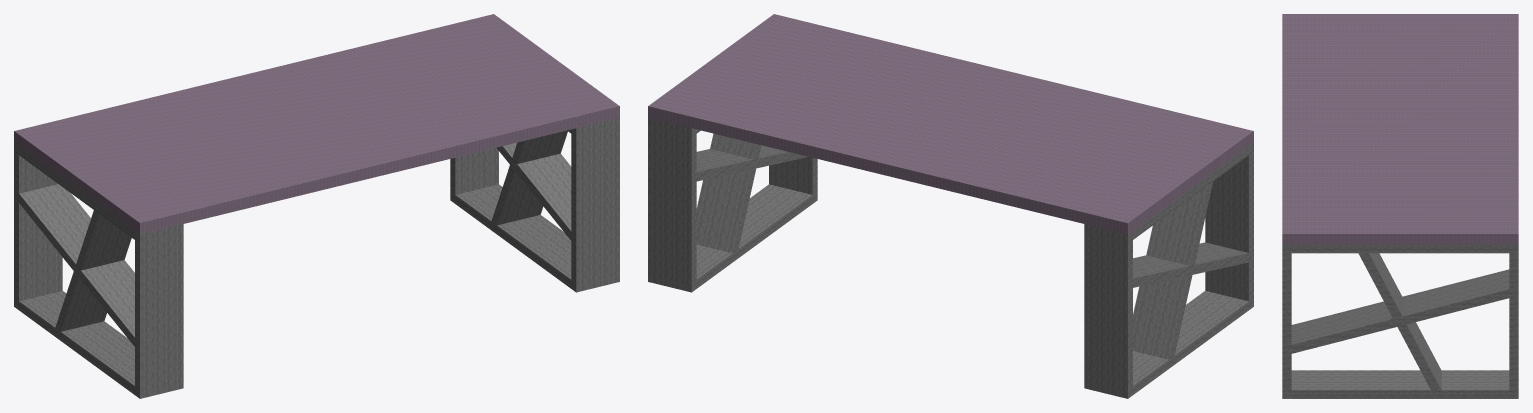
Rendered from Coffee-table.gltf.
3 renders of one model, left to right at view 1: azimuth 30°, elevation 25°; view 2: azimuth 150°, elevation 25°; view 3: azimuth 270°, elevation 25°, orthographic. The views are drawn at different scales.
Parts seen in each view (by area): view 1: white high gloss plastic, unfinished beech endgrain; view 2: white high gloss plastic, unfinished beech endgrain; view 3: white high gloss plastic, unfinished beech endgrain.
Part boxes in pixels (x1,y1,x2,y2): white high gloss plastic: (14, 14, 619, 234); unfinished beech endgrain: (14, 117, 619, 398); white high gloss plastic: (648, 14, 1253, 234); unfinished beech endgrain: (648, 117, 1253, 398); white high gloss plastic: (1282, 14, 1518, 244); unfinished beech endgrain: (1282, 244, 1518, 398).
Bounding box in the file's own units: 1.1 × 0.385 × 0.5.
Materials: 2 (2 with a texture image).
